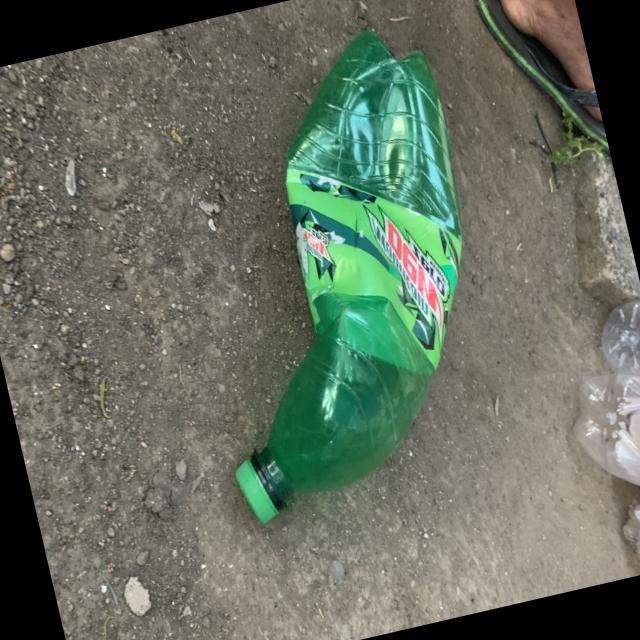Bottle: (236, 30, 461, 522)
